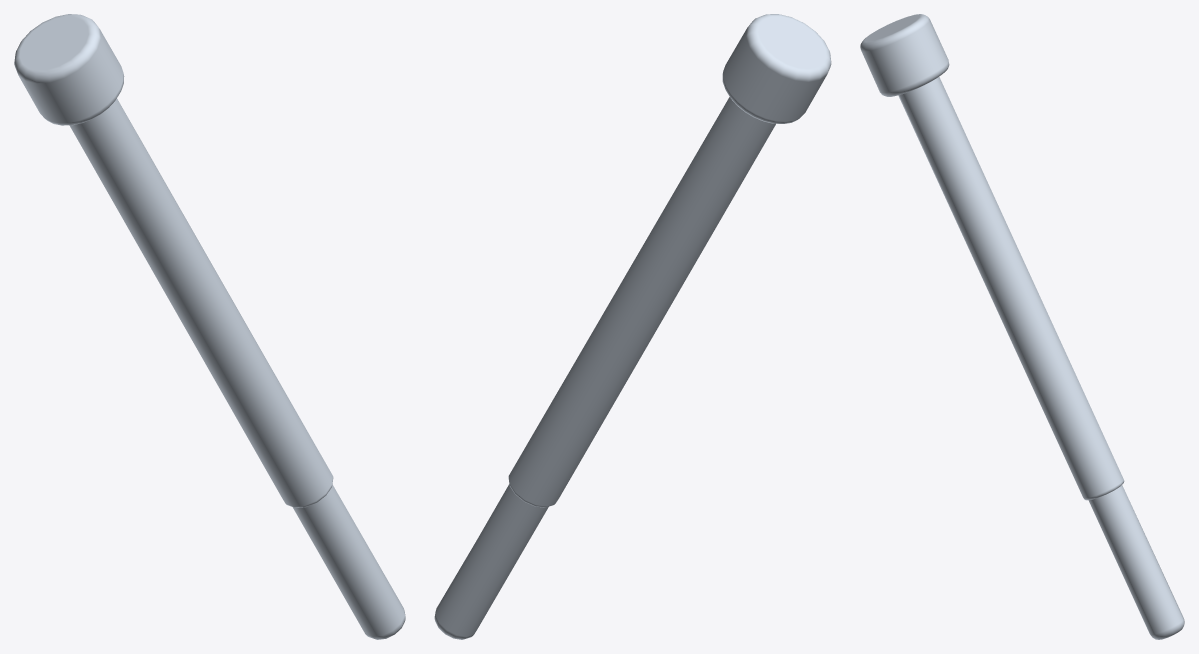
File: RB-026_viewer.glb
3 renders of one model, left to right at view 1: azimuth 30°, elevation 25°; view 2: azimuth 150°, elevation 25°; view 3: azimuth 330°, elevation 25°, orthographic. The views are drawn at different scales.
Visible parts, largest first — view 1: basebody_imported1; view 2: basebody_imported1; view 3: basebody_imported1.
Boxes of the visible parts, <box> form: basebody_imported1: <box>14,14,405,639</box>; basebody_imported1: <box>434,14,831,639</box>; basebody_imported1: <box>860,14,1184,639</box>.
Size of the model in its own units: 0.0237 by 0.0407 by 0.00501.
